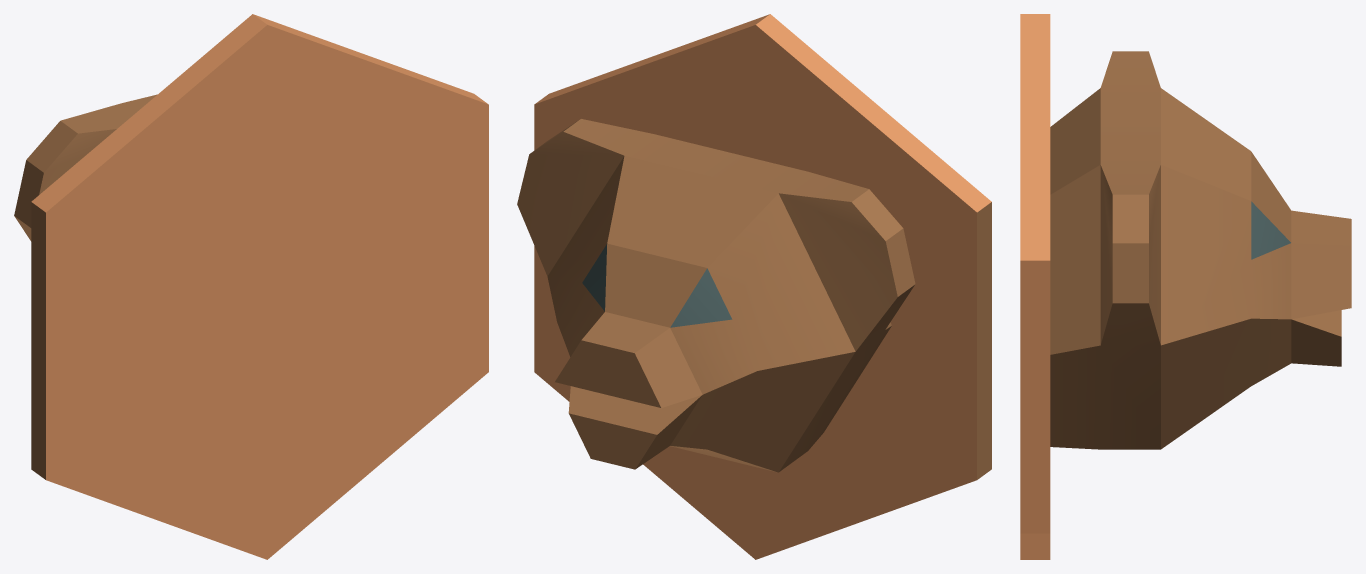
Rendered from bear.fbx.
3 views of the same model, side by side, from view 1: azimuth 30°, elevation 25°; view 2: azimuth 150°, elevation 25°; view 3: azimuth 270°, elevation 25° (orthographic). The views are drawn at different scales.
Parts seen in each view (by area): view 1: bear; view 2: bear; view 3: bear.
Part boxes in pixels (x1=…): bear: x1=14, y1=14, x2=488, y2=559; bear: x1=517, y1=14, x2=991, y2=559; bear: x1=1020, y1=14, x2=1351, y2=559.
Size of the model in its own units: 3.9 by 4.5 by 2.47.
